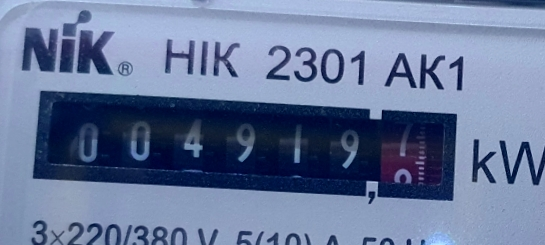0: (125, 117, 154, 163), (74, 119, 100, 164)
1: (288, 120, 305, 166)
4: (179, 114, 205, 159)
7: (389, 119, 415, 159)
9: (335, 125, 361, 173), (232, 120, 257, 165)
screen: (20, 76, 475, 219)
